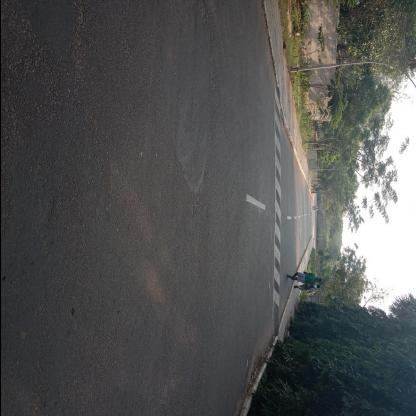speed-bumps: (266, 77, 290, 335)
